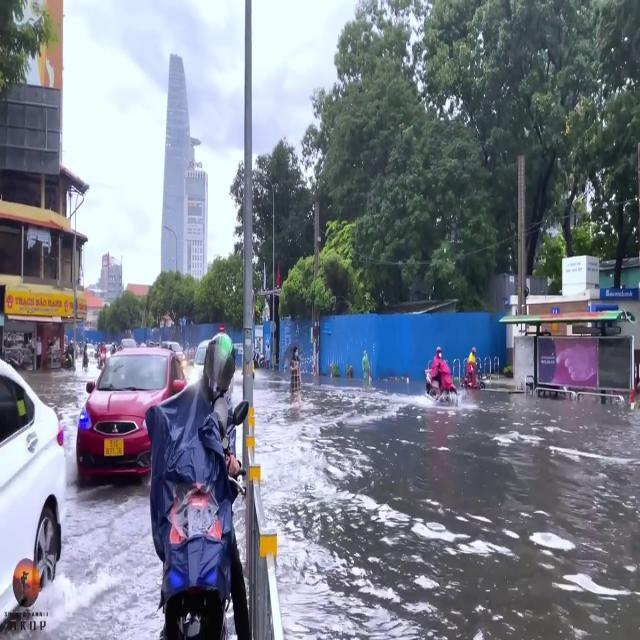bien_vang: (104, 436, 125, 459)
